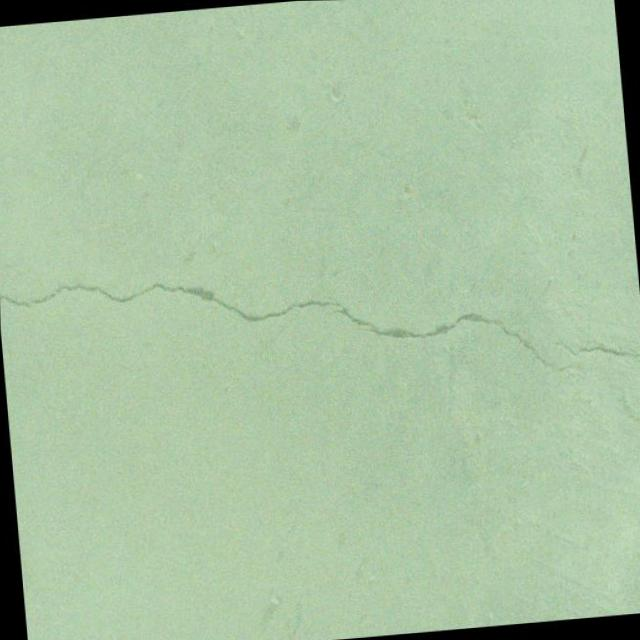crack: (0, 239, 571, 420), (539, 326, 640, 367)
